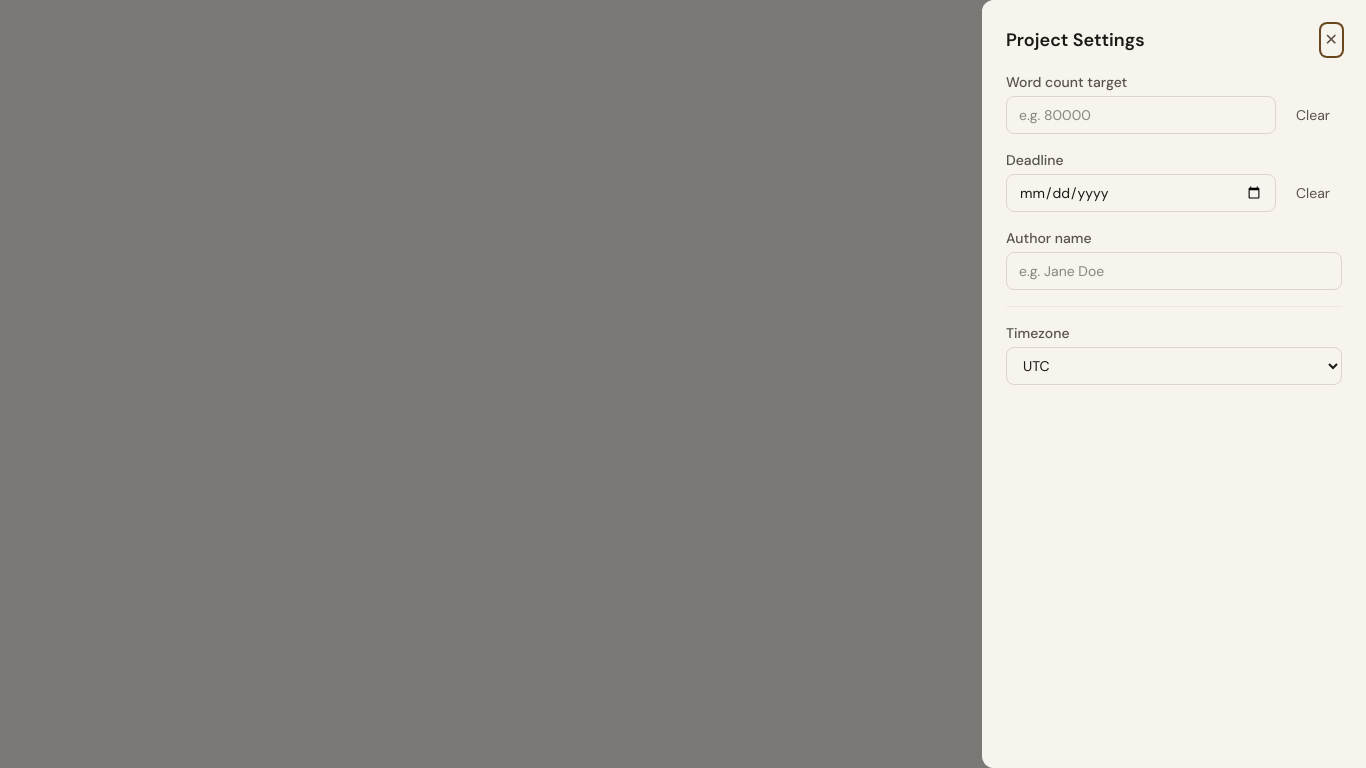
Scenario: ProjectSettingsDialog › reverts timezone on save failure
This screenshot has width=1366, height=768.
Select "Europe/London" in the dropdown labelled "Timezone" at x=1174, y=366, box [1006,347,1342,385]
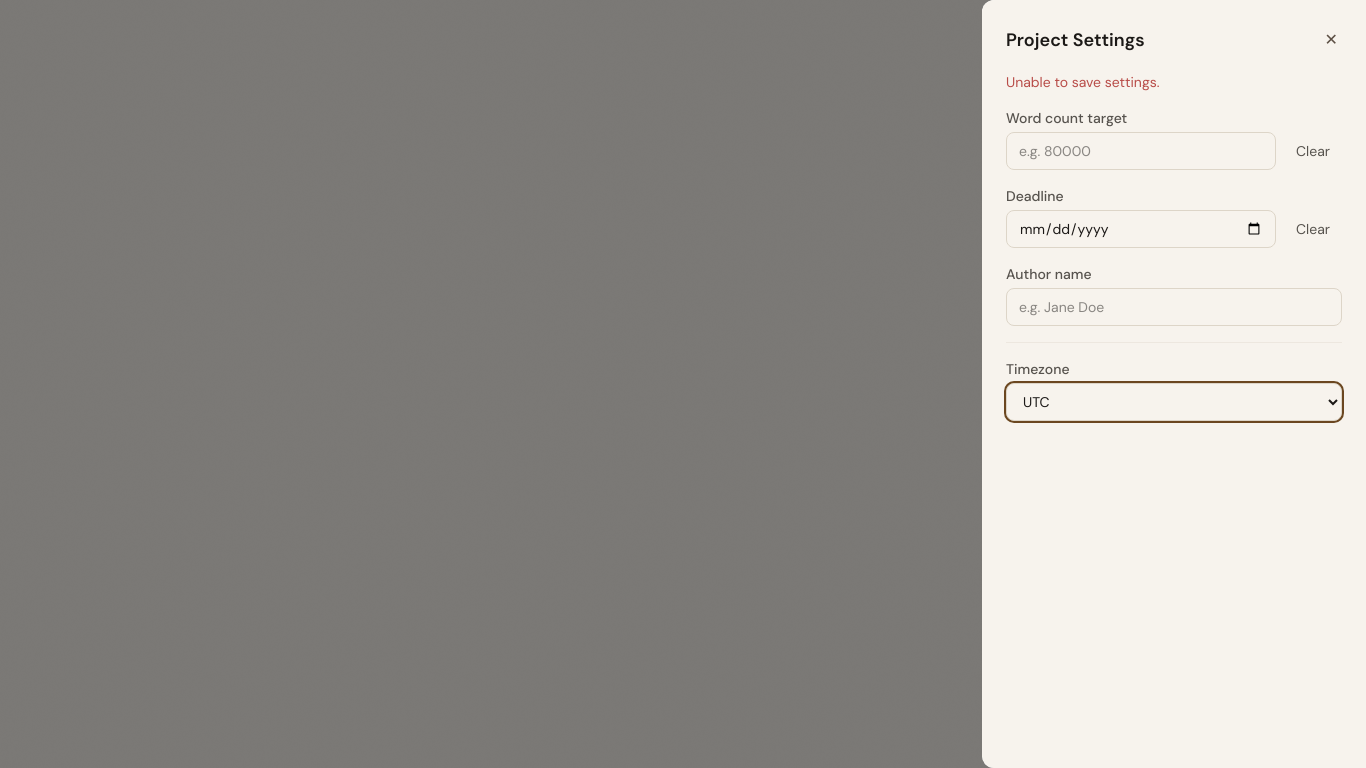
Now the message "Unable to save settings." is shown, box [1006,73,1160,91]
